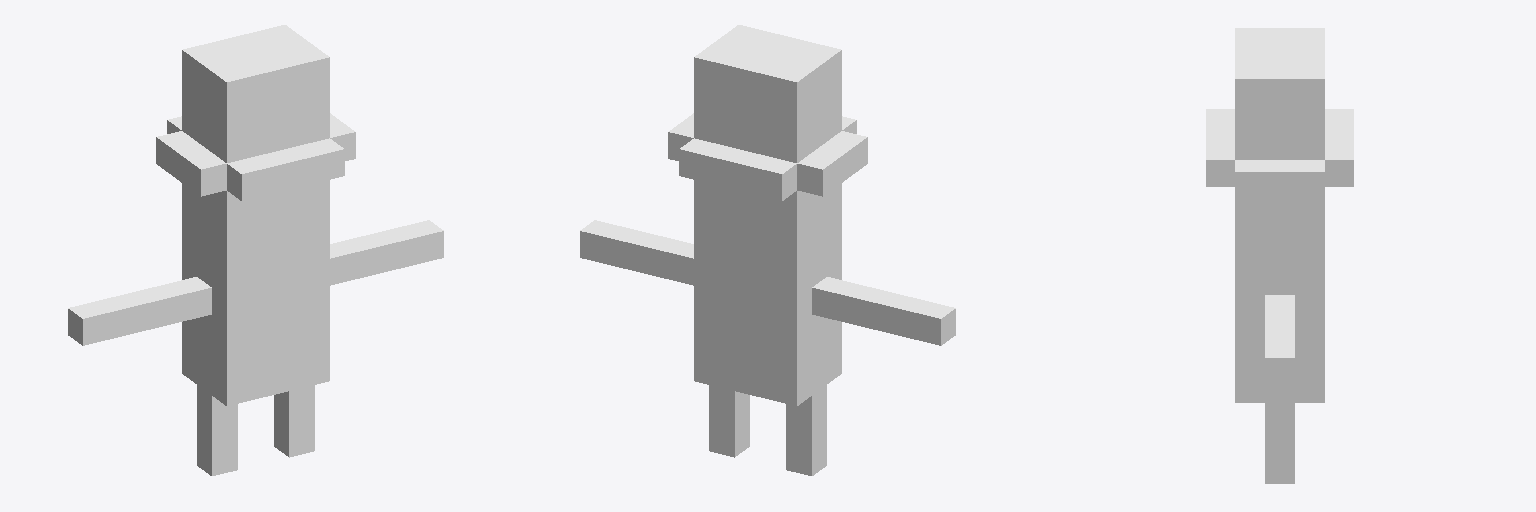
File: Lincoln.obj
3 renders of one model, left to right at view 1: azimuth 30°, elevation 25°; view 2: azimuth 150°, elevation 25°; view 3: azimuth 270°, elevation 25°, orthographic.
Visible parts, largest first — view 1: object 1; view 2: object 1; view 3: object 1.
Boxes of the visible parts, x1=… form: object 1: x1=68, y1=25, x2=443, y2=475; object 1: x1=580, y1=25, x2=955, y2=475; object 1: x1=1206, y1=28, x2=1353, y2=483.
Bounding box in the file's own units: 1.4 × 1.5 × 0.5.